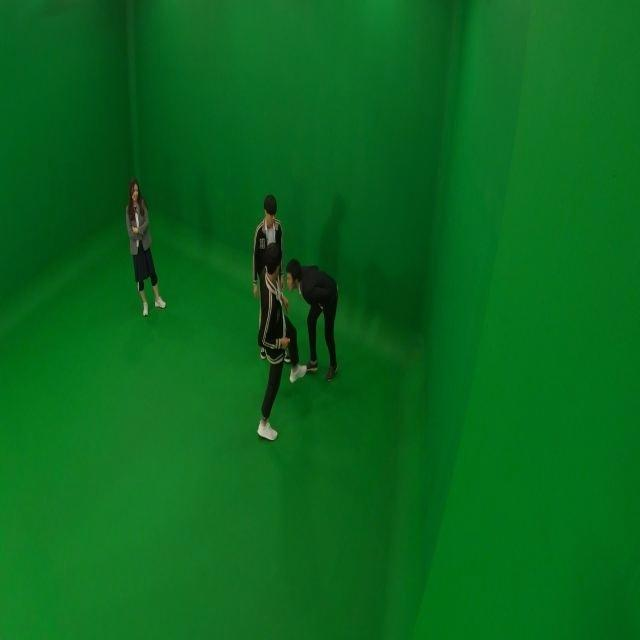fight: (250, 247, 348, 440)
non-fight: (245, 192, 293, 360), (126, 177, 162, 315)
